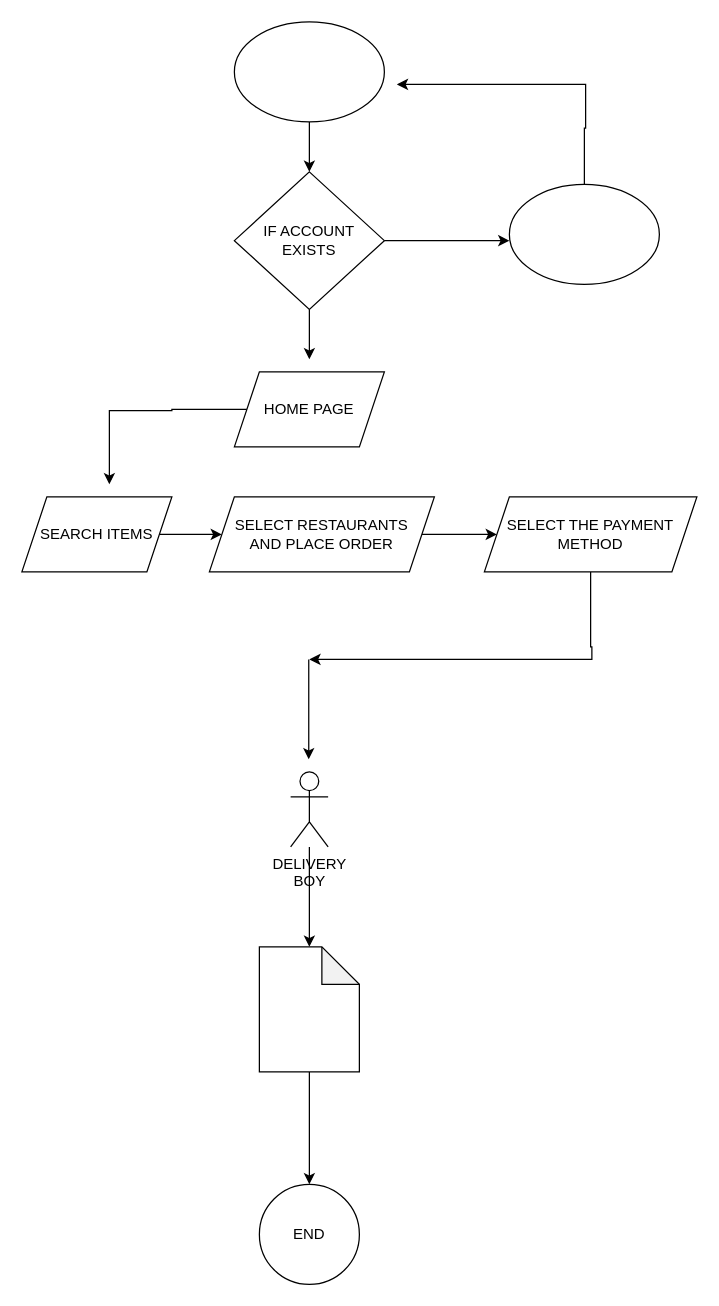
This 719x1306 diagram has some shape labels left out. Here are the shapes that lost their labels. From the top down, the centre of each, then its label:
At pixel 308 71: "LOGIN PAGE".
At pixel 583 233: "CREATE ACCOUNT".
At pixel 308 1009: "FEEDBACK FORM".
